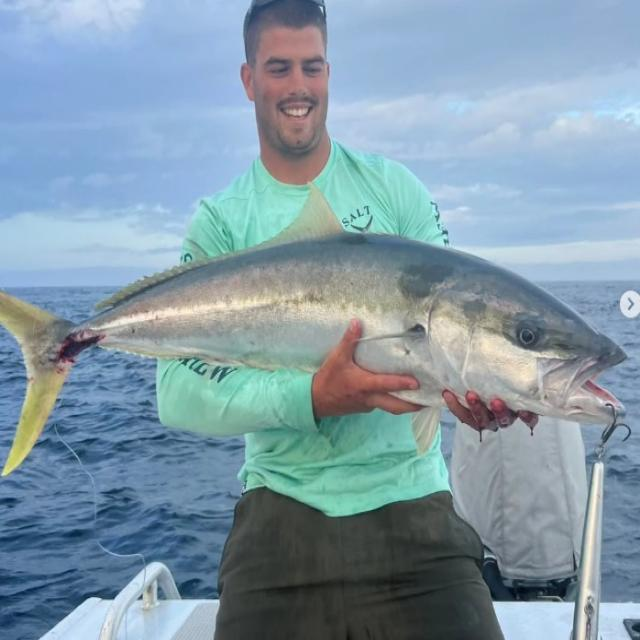Kingfish: (0, 179, 634, 484)
